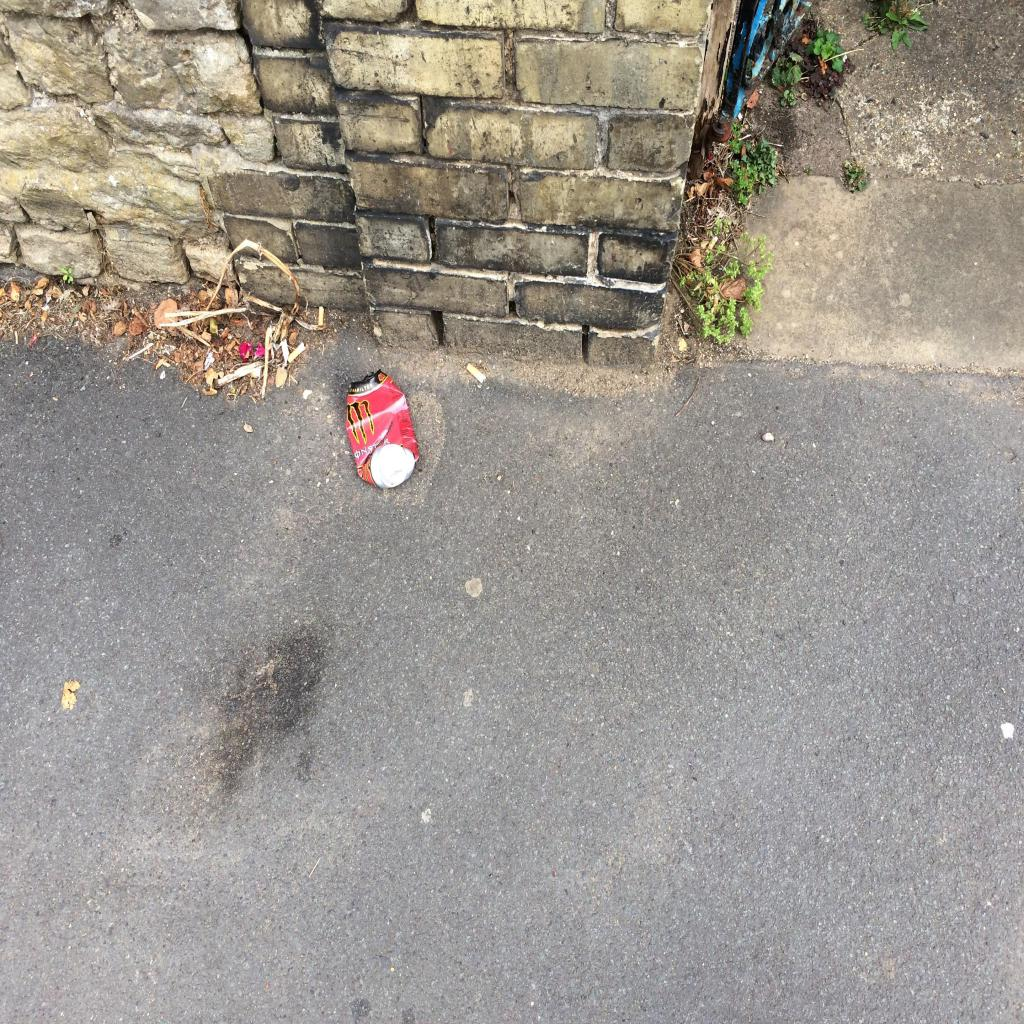Cigarette: (466, 362, 486, 383), (287, 340, 305, 362), (708, 235, 718, 249), (318, 306, 323, 324), (714, 294, 718, 304)
Drink can: (346, 368, 418, 488)
